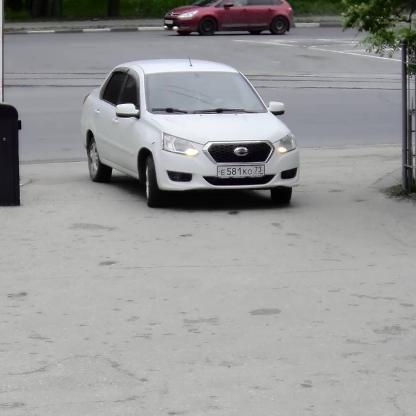plate: (217, 165, 265, 176)
